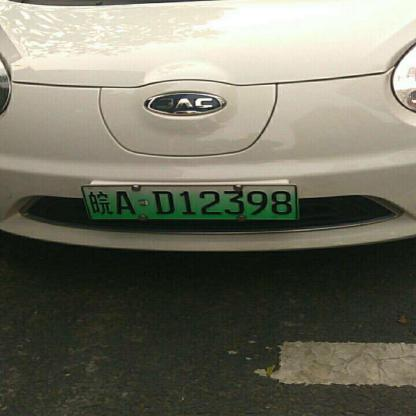lp: (80, 184, 300, 221)
